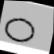no answer: (2, 11, 39, 47)
